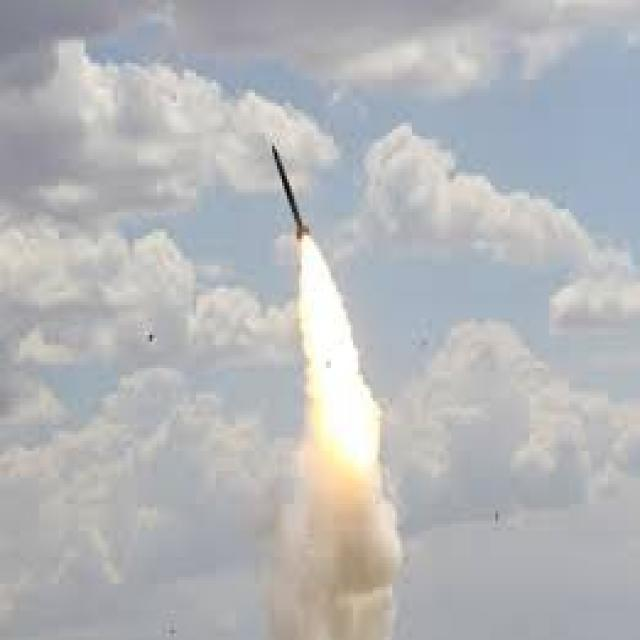missile: (267, 138, 312, 246)
